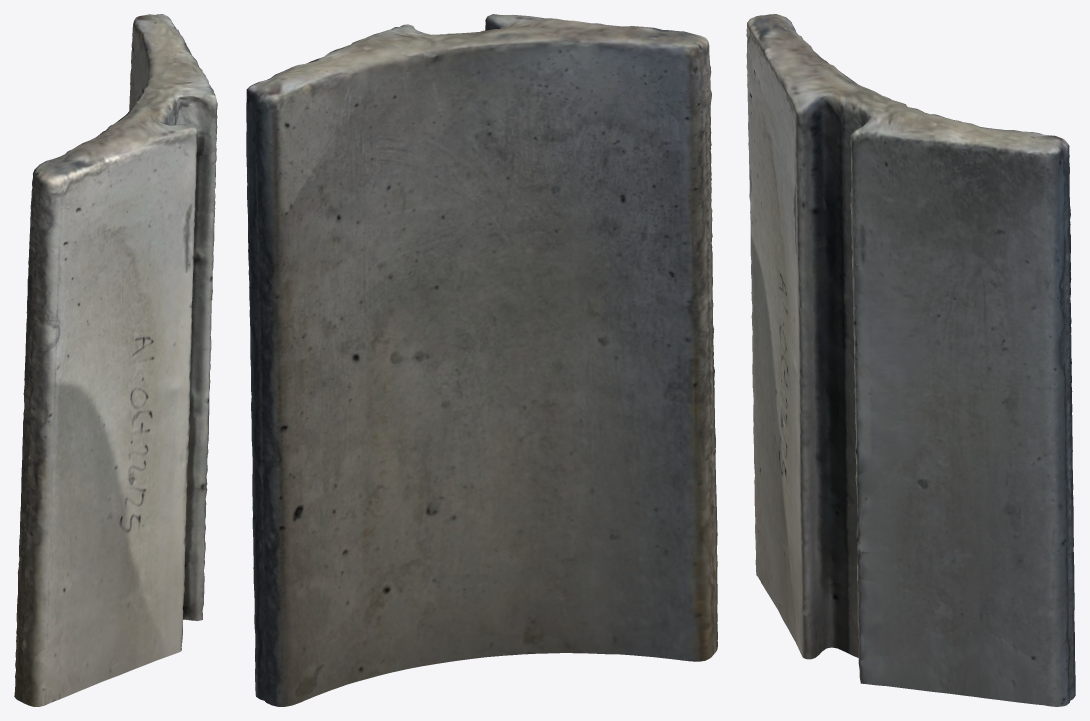
3 views of the same model, side by side, from view 1: azimuth 30°, elevation 25°; view 2: azimuth 150°, elevation 25°; view 3: azimuth 270°, elevation 25° (orthographic). The views are drawn at different scales.
Parts seen in each view (by area): view 1: Node; view 2: Node; view 3: Node.
Part boxes in pixels (box(x1,y1,x2,y2)): Node: box(14, 14, 217, 706); Node: box(246, 14, 717, 706); Node: box(746, 14, 1075, 706).
Size of the model in its own units: 0.236 by 0.4312 by 0.2271.
1 material, 1 textured.
